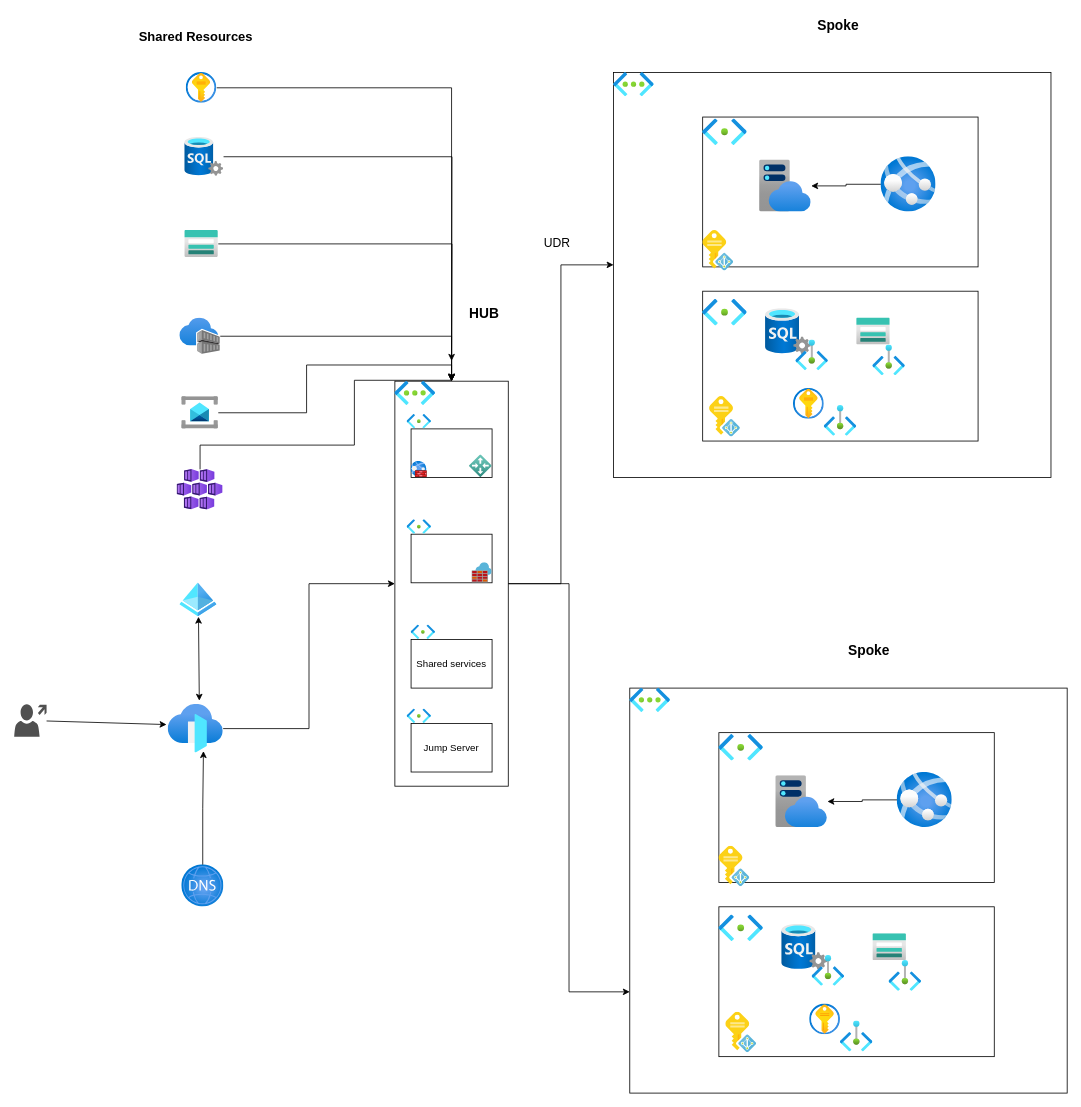
Image size: 1081x1107. Some labels were removed from this diagram. Each missing label, with the box of its shape:
AZ FW Snet: (410, 533, 492, 583)
GW Snet: (410, 428, 492, 477)
